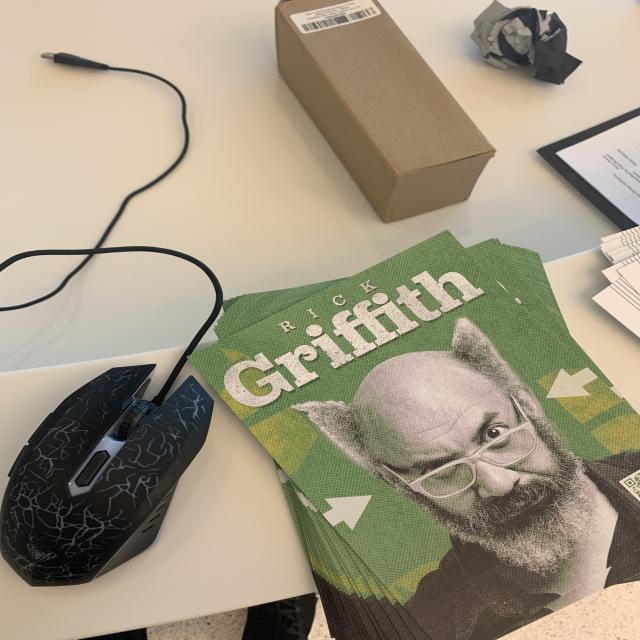Mouse: (3, 360, 225, 594)
